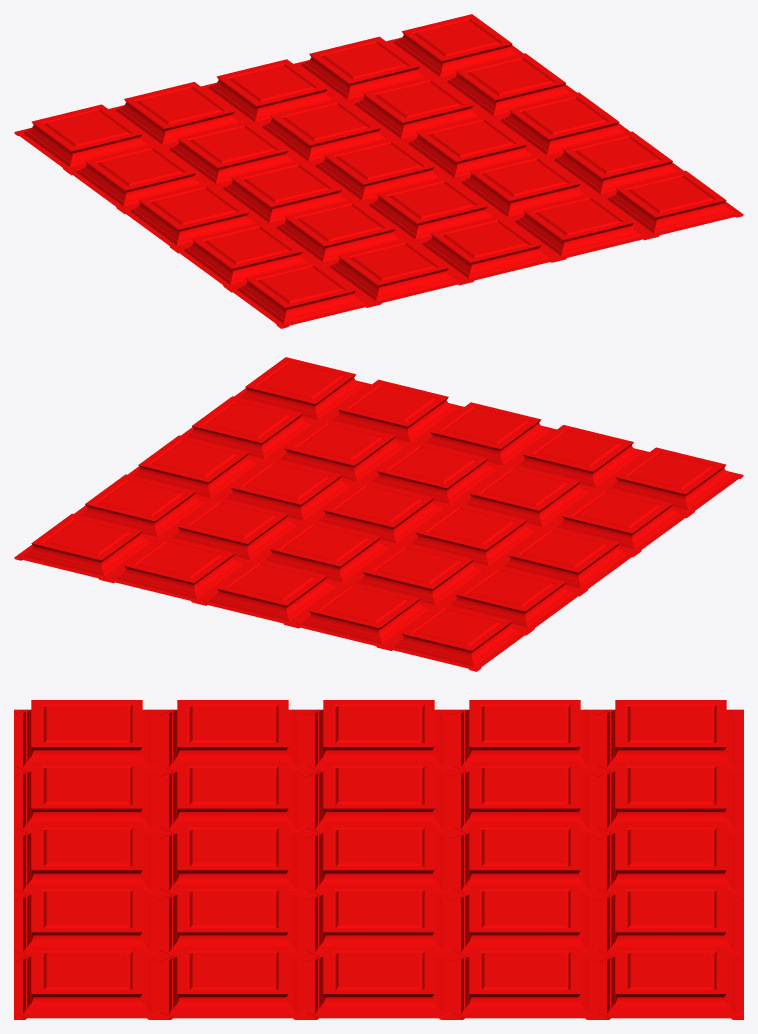
The model's file is Ceiling_Tile.FBX.
3 views of the same model, one above another, from view 1: azimuth 30°, elevation 25°; view 2: azimuth 150°, elevation 25°; view 3: azimuth 270°, elevation 25° (orthographic). The views are drawn at different scales.
Visible parts, largest first — view 1: Ceiling_Tile; view 2: Ceiling_Tile; view 3: Ceiling_Tile.
Boxes of the visible parts, x1,y1,x2,y2 form: Ceiling_Tile: (14,14,743,328); Ceiling_Tile: (14,357,743,671); Ceiling_Tile: (14,700,743,1019).
Bounding box in the file's own units: 600 × 17.44 × 600.
